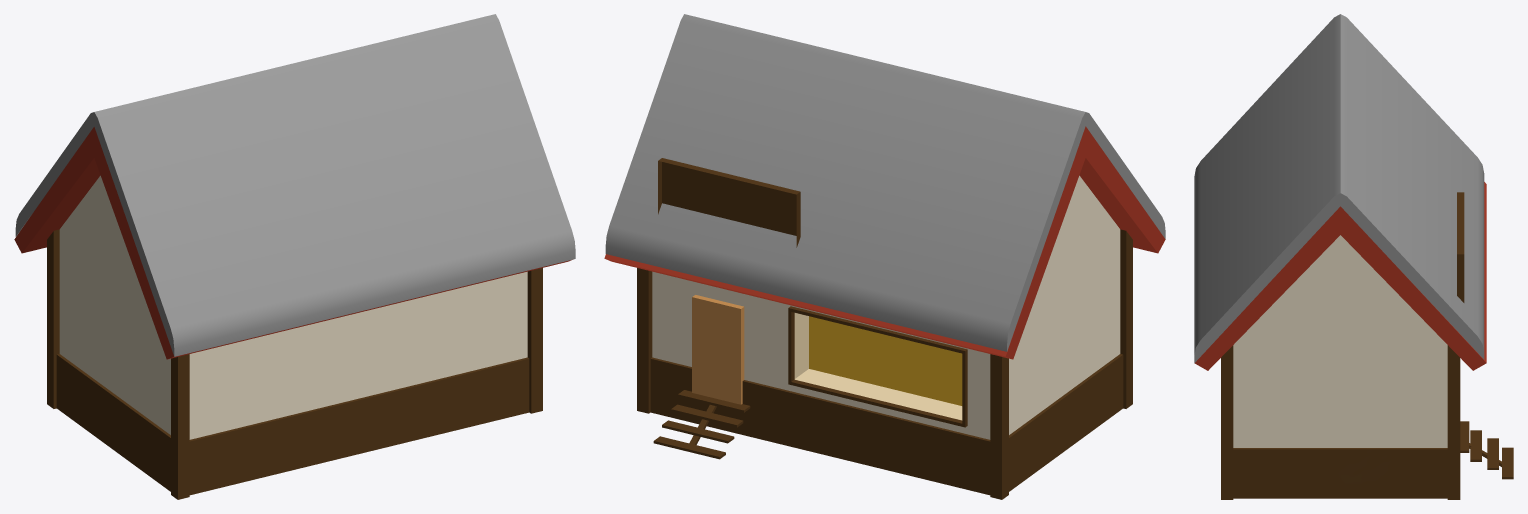
Rendered from hosue_6.fbx.
3 renders of one model, left to right at view 1: azimuth 30°, elevation 25°; view 2: azimuth 150°, elevation 25°; view 3: azimuth 270°, elevation 25°, orthographic. The views are drawn at different scales.
Visible parts, largest first — view 1: Object061, Object073; view 2: Object061, Object073, Object053; view 3: Object073, Object061.
Boxes of the visible parts, bbox=[...] form: Object061: bbox=[15, 14, 575, 356]; Object073: bbox=[14, 127, 572, 499]; Object061: bbox=[605, 14, 1165, 351]; Object073: bbox=[604, 126, 1165, 499]; Object053: bbox=[809, 316, 962, 405]; Object073: bbox=[1194, 182, 1513, 499]; Object061: bbox=[1194, 14, 1484, 362].
Size of the model in its own units: 906 by 748 by 683.
